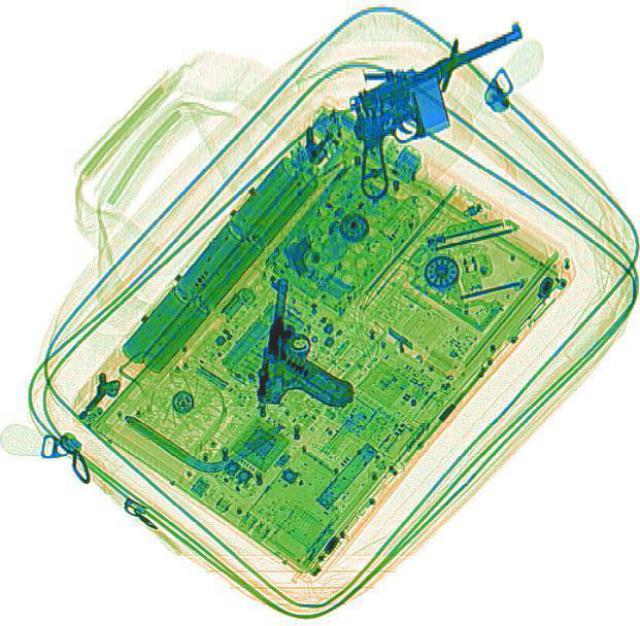Gun: (314, 21, 566, 202), (252, 273, 366, 411)
